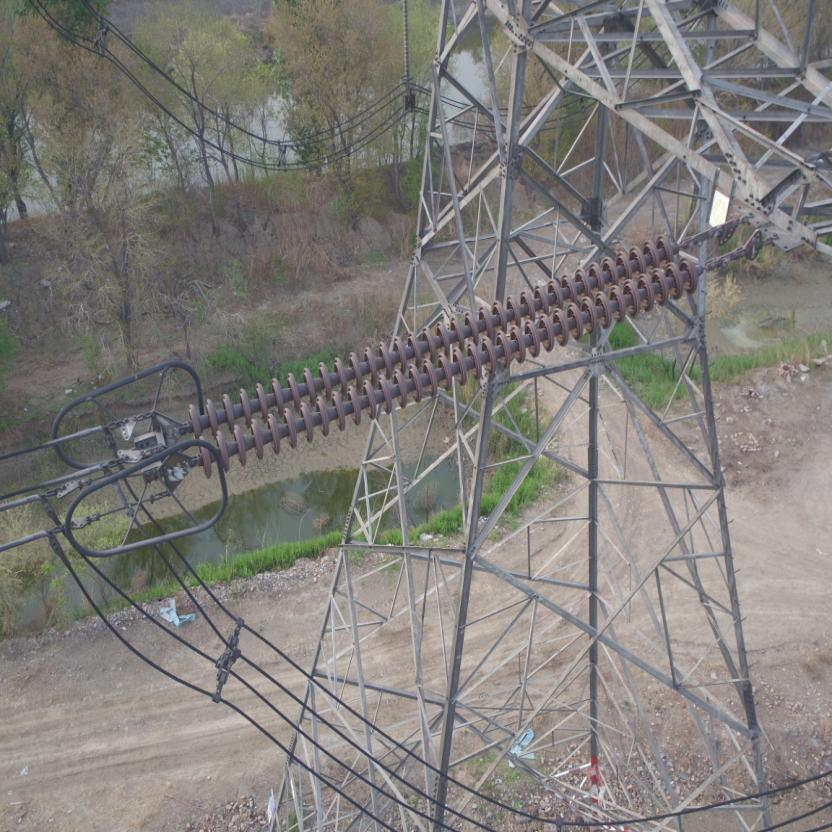insulator: (174, 230, 732, 480)
